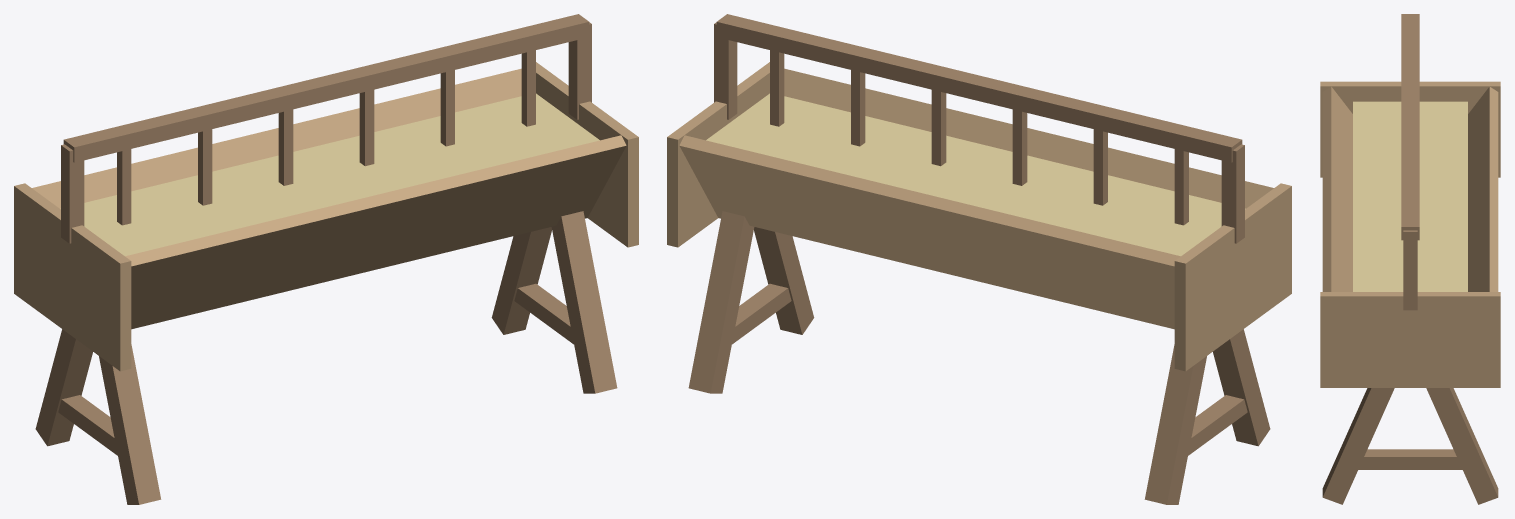
Rendered from prop-feed-trough.fbx.
The picture shows the model from 3 angles, left to right: view 1: azimuth 30°, elevation 25°; view 2: azimuth 150°, elevation 25°; view 3: azimuth 270°, elevation 25°; orthographic projection. The views are drawn at different scales.
Visible parts, largest first — view 1: prop-feed-trough; view 2: prop-feed-trough; view 3: prop-feed-trough.
Part boxes in pixels (left/top/right/bottom): prop-feed-trough: left=14, top=14, right=638, bottom=504; prop-feed-trough: left=667, top=14, right=1291, bottom=504; prop-feed-trough: left=1320, top=14, right=1500, bottom=504.
Size of the model in its own units: 1.42 by 0.8745 by 0.5.
